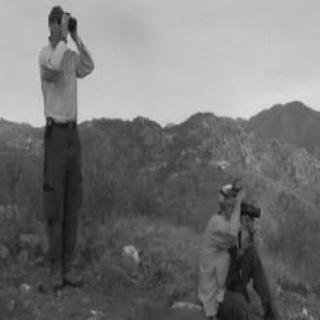other: (192, 190, 240, 302)
